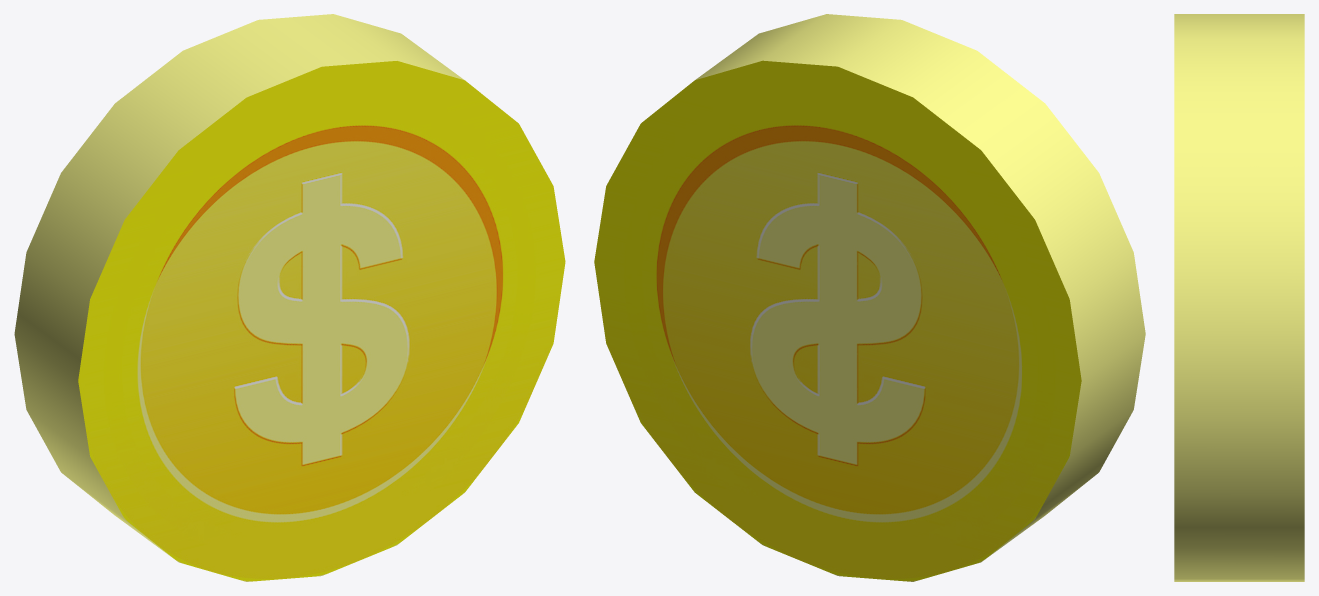
Rendered from Coin_Mesh.fbx.
The picture shows the model from 3 angles, left to right: view 1: azimuth 30°, elevation 25°; view 2: azimuth 150°, elevation 25°; view 3: azimuth 270°, elevation 25°; orthographic projection.
Visible parts, largest first — view 1: Coin_Mesh; view 2: Coin_Mesh; view 3: Coin_Mesh.
Part boxes in pixels (<box>): Coin_Mesh: <box>14,14,565,581</box>; Coin_Mesh: <box>594,14,1145,581</box>; Coin_Mesh: <box>1174,14,1304,581</box>.
Size of the model in its own units: 22.03 by 21.99 by 5.
